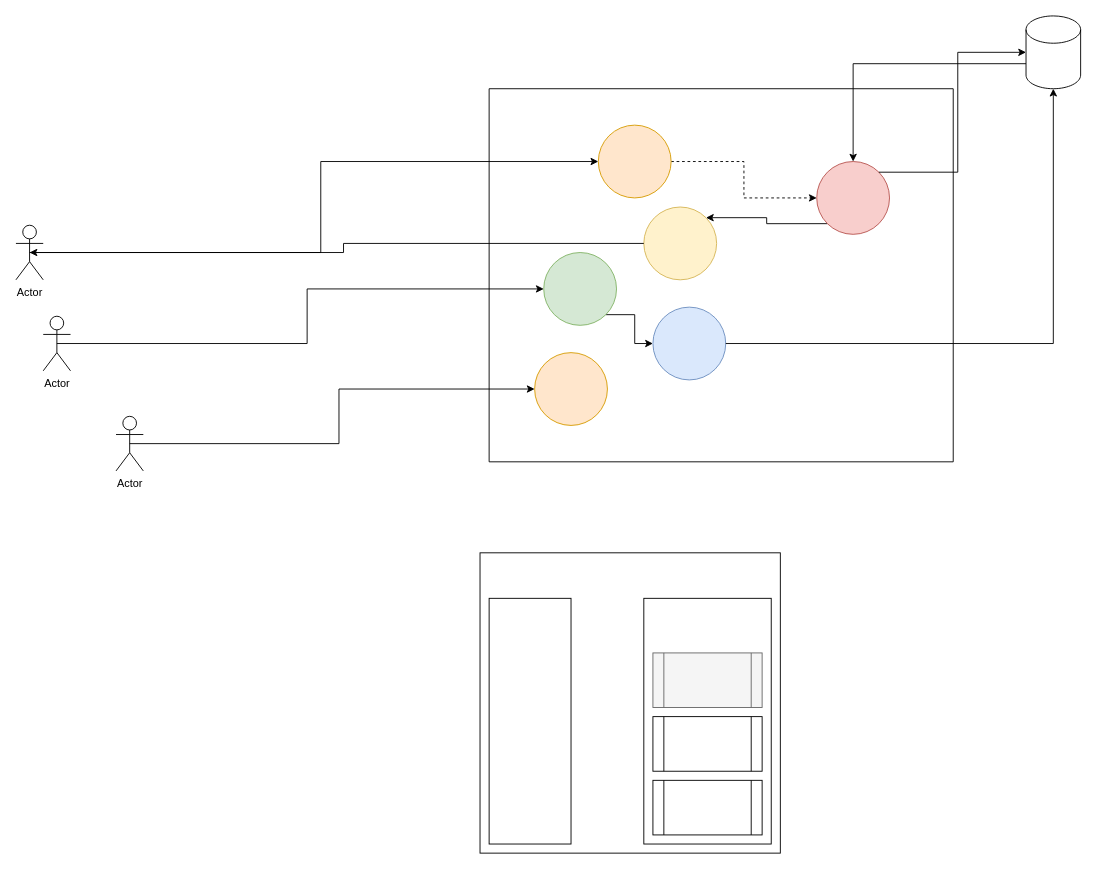
The diagram is 1097 pixels wide and 869 high, and some of its shapes have lost their labels. The shapes that lost their labels are listed below. From the top down, each one's box as (x1, y1, x2, y2) in pixels, then its label:
(1025, 15, 1081, 89): Cluster DB
(488, 597, 571, 844): Singlenton
